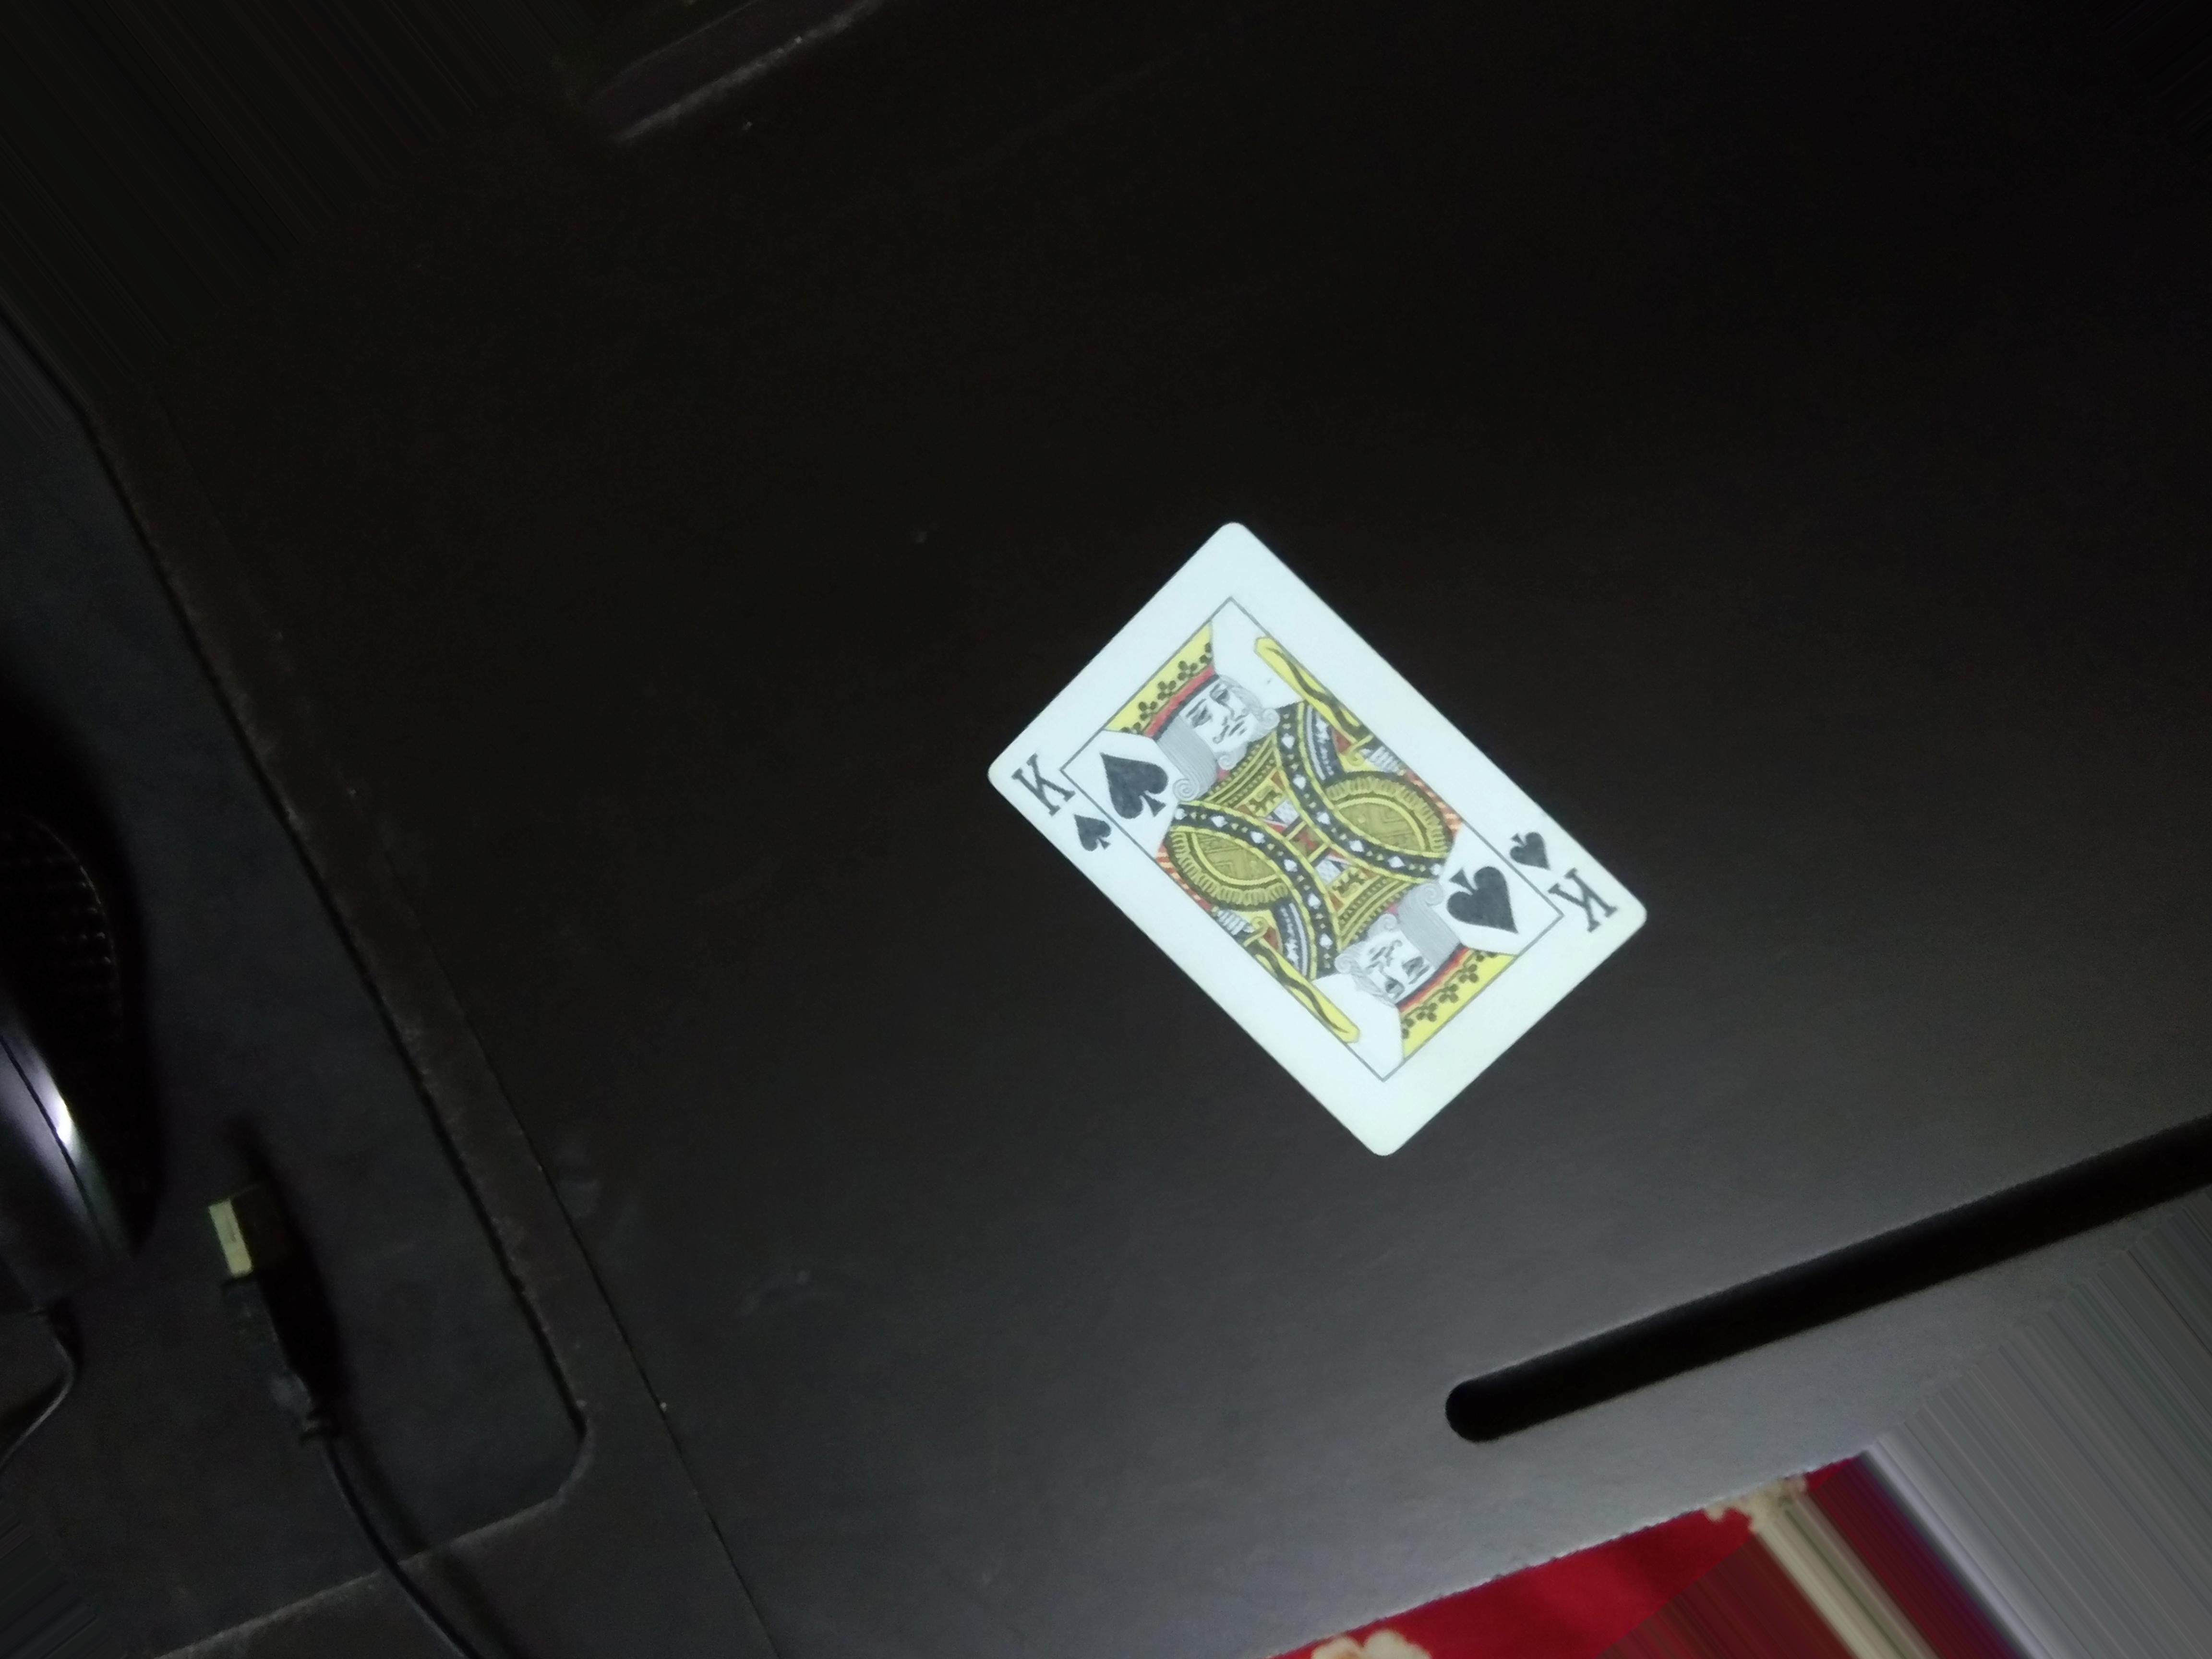KS: (1008, 753, 1118, 866)
